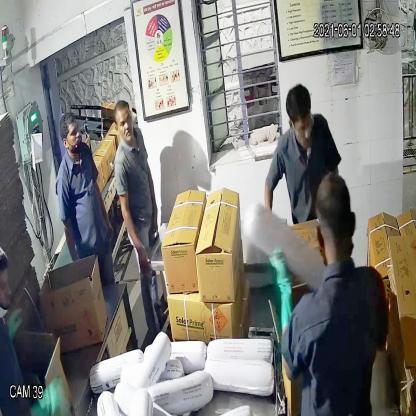goggles: (285, 111, 318, 140)
